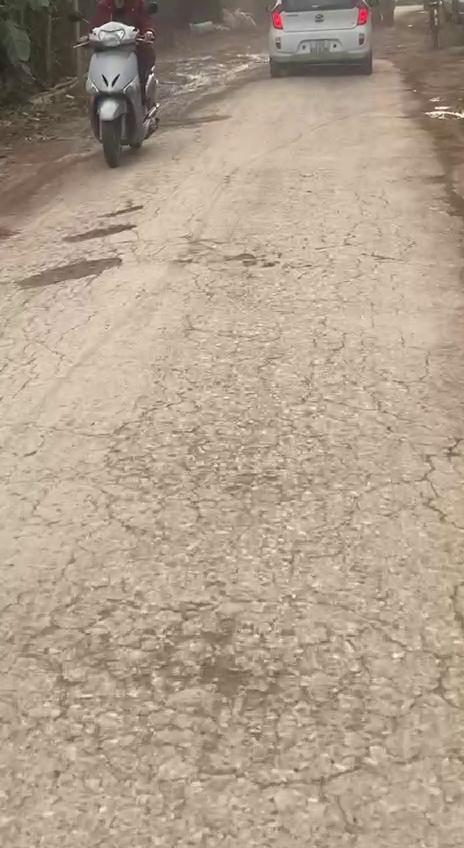pothole: (12, 254, 128, 292)
